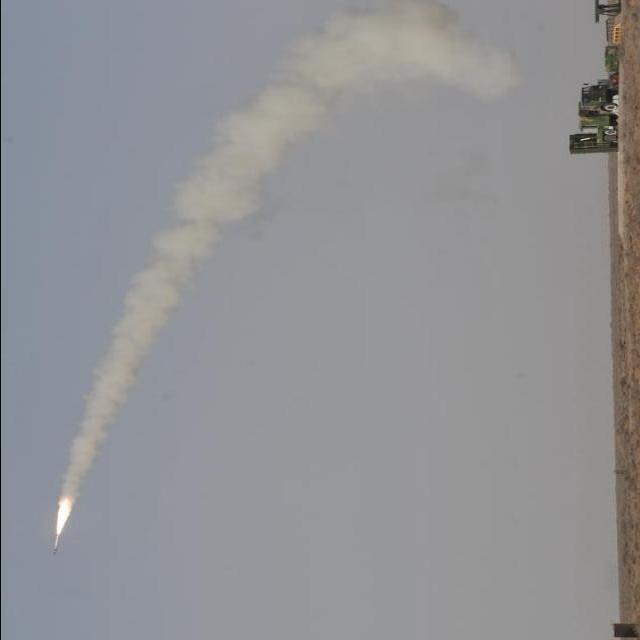missile: (52, 534, 61, 556)
